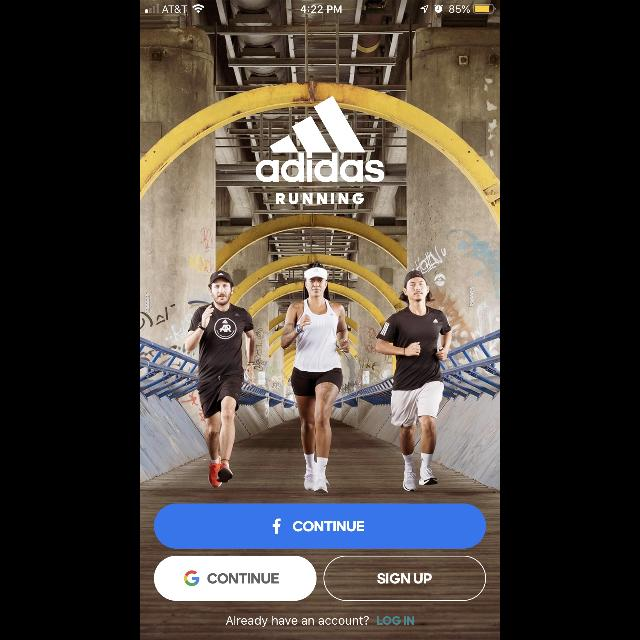backgroundimage: (140, 1, 500, 640)
image: (256, 96, 384, 182)
text: (226, 616, 370, 626), (276, 193, 364, 204), (378, 616, 414, 626)
textbutton: (154, 504, 486, 548), (324, 556, 486, 600), (154, 556, 316, 600)
uppertaskbar: (140, 0, 500, 14)
